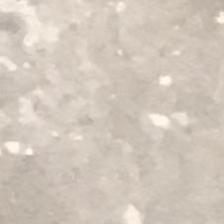Non_Crack: (24, 30, 190, 168)
